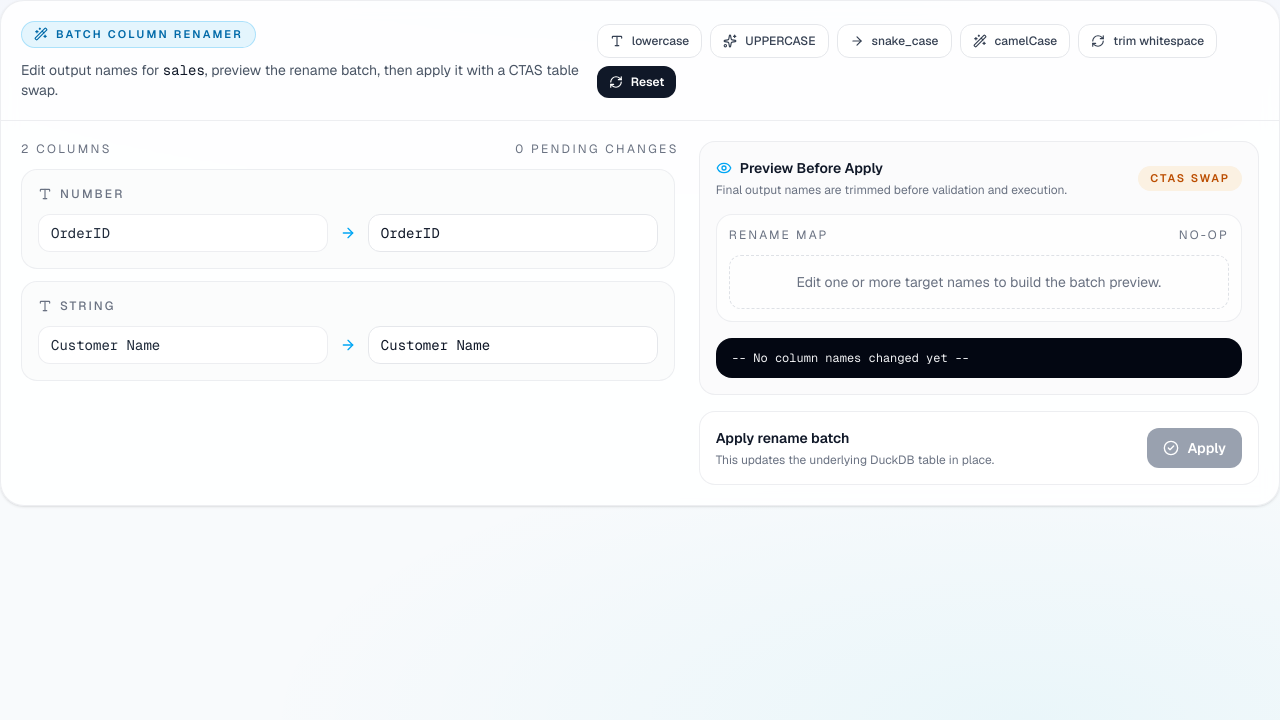
Test case: ColumnRenamer › falls back to the CTAS swap strategy for case-only style renames
The image size is (1280, 720).
Click the button "camelCase": (1015, 41) [960, 24, 1070, 58]
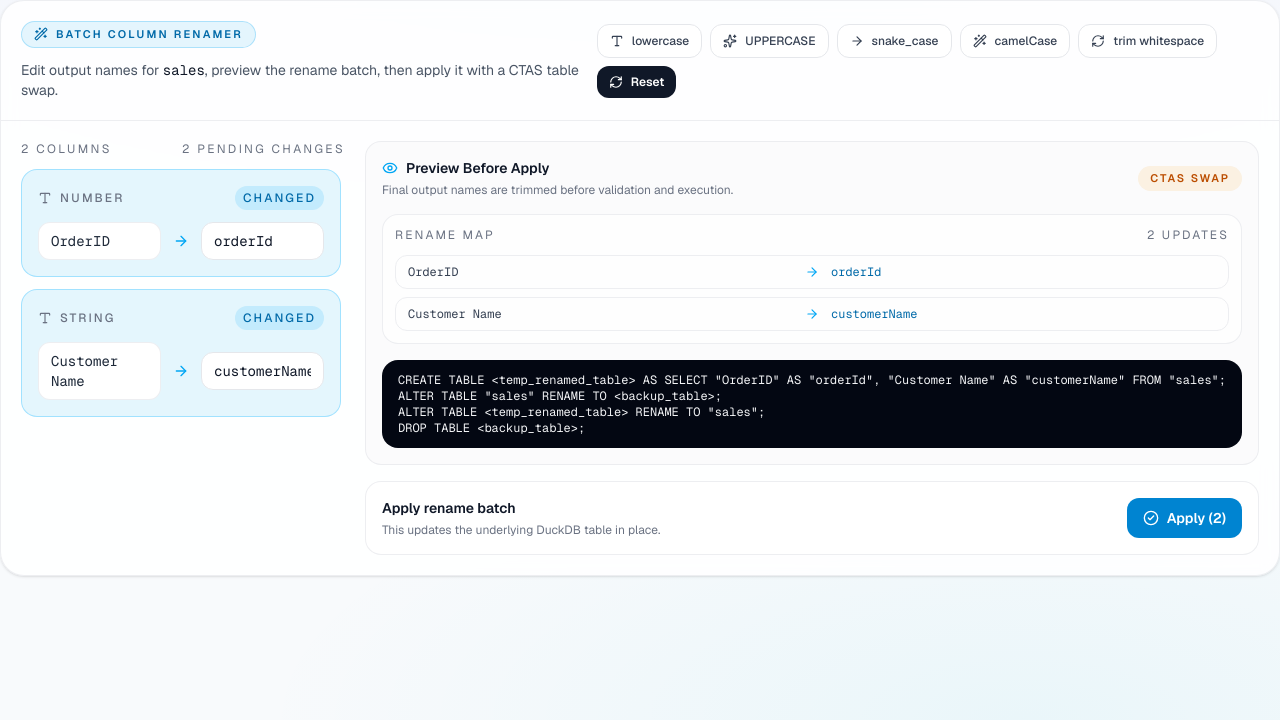
Expected: the text "CTAS swap" is shown, [1138, 166, 1242, 190]
Expected: the field showing "customerName" below "string" is shown, [201, 352, 324, 390]
Click the button "Apply (2)": (1184, 518) [1127, 498, 1242, 538]
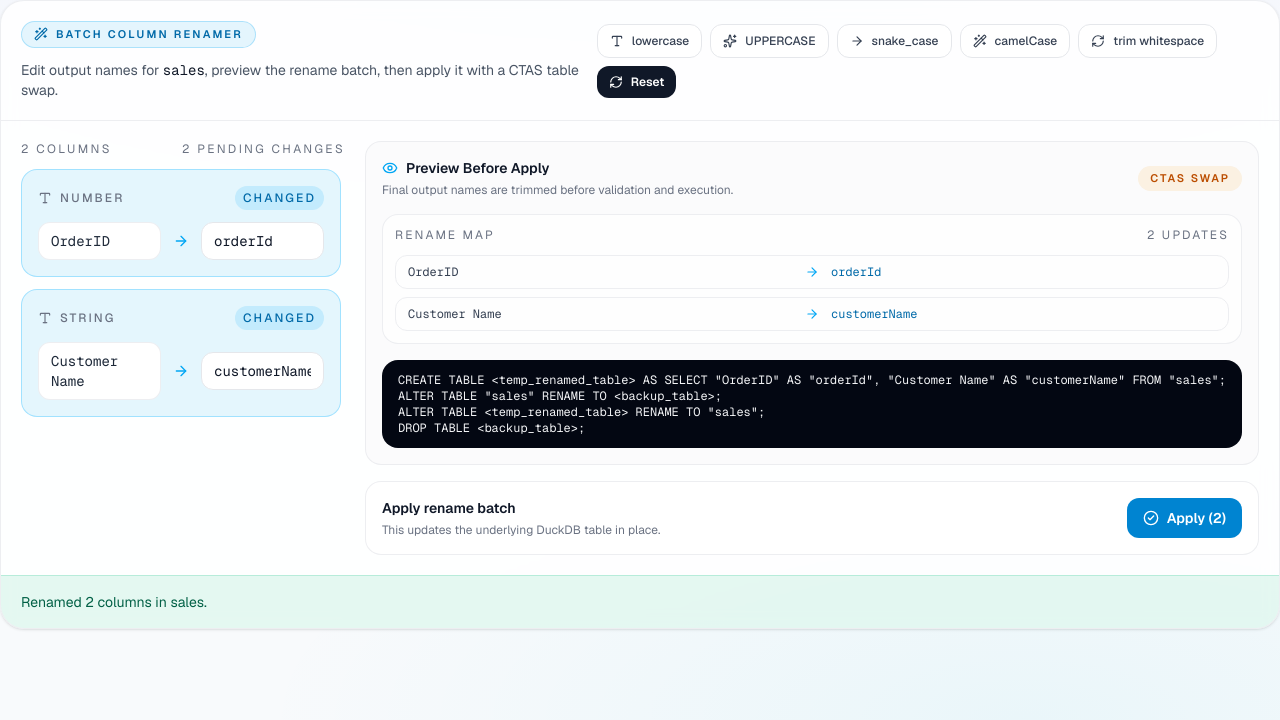
Expected: the text "Renamed 2 columns in sales." is shown, [1, 575, 1279, 628]
